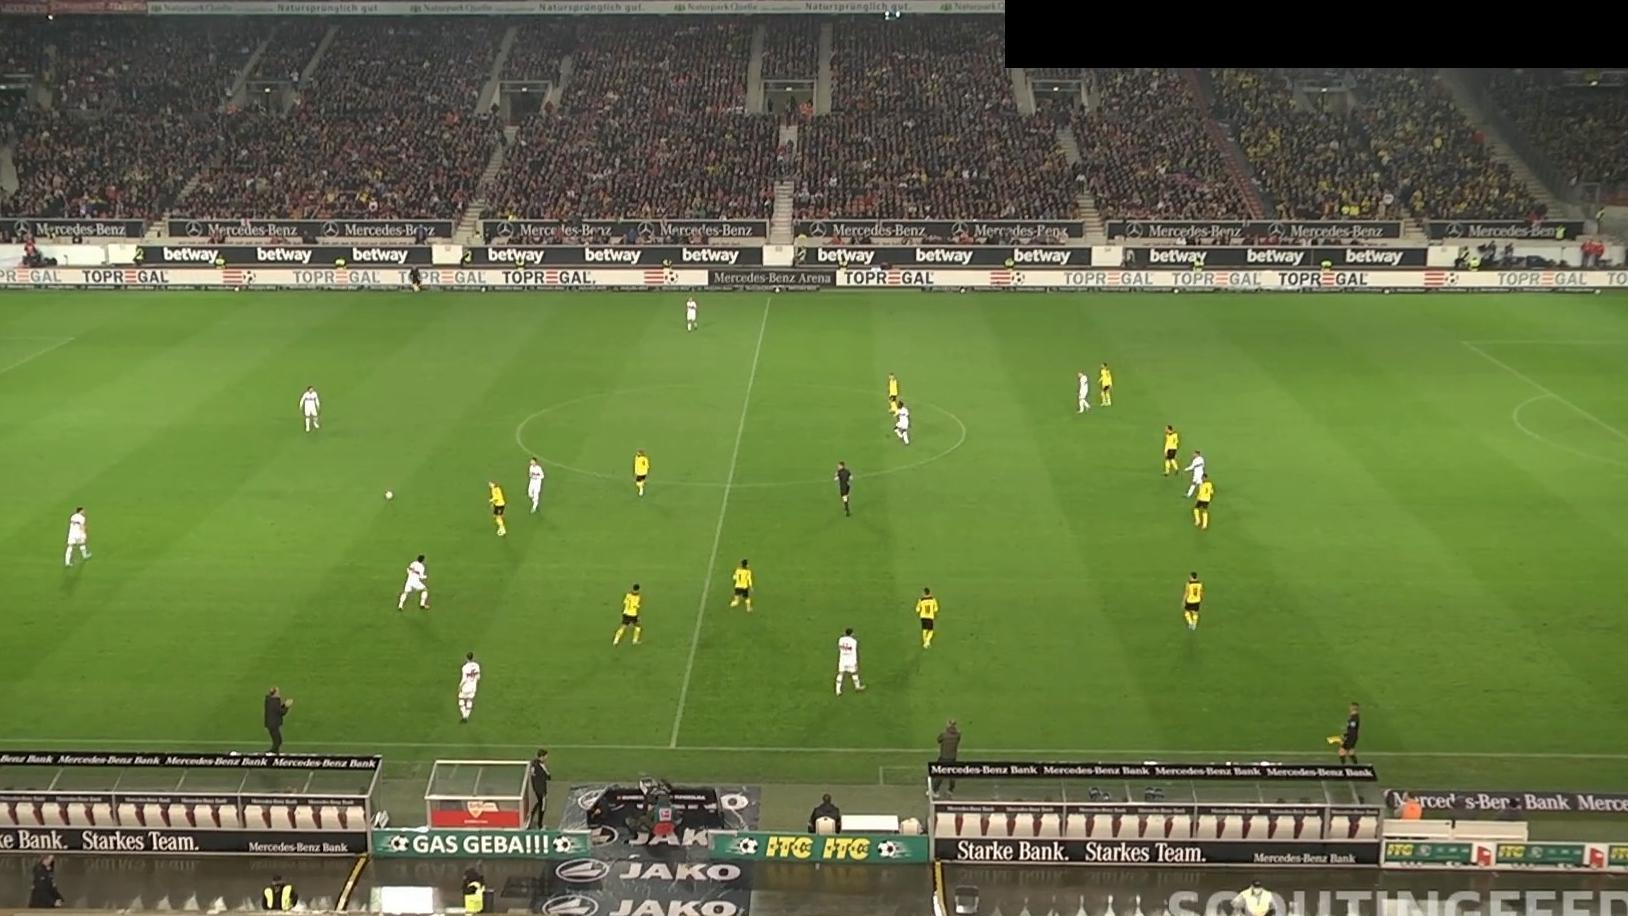ball: (385, 489, 394, 501)
